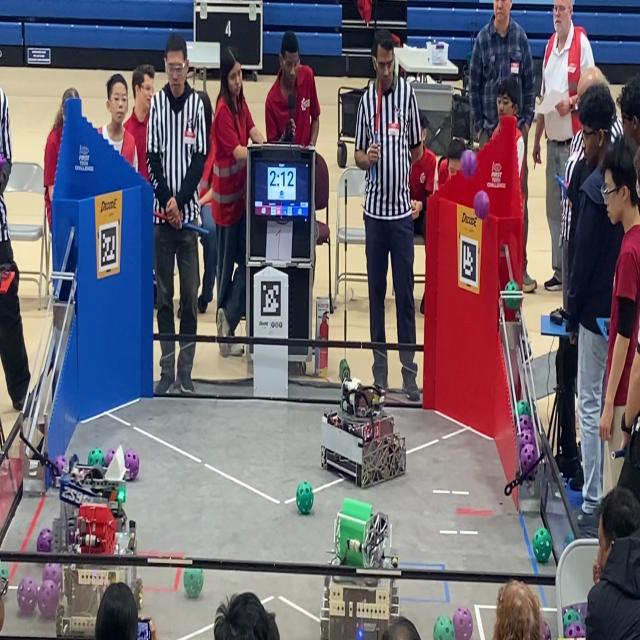artifact_green: (532, 528, 552, 564), (183, 568, 204, 599), (296, 482, 313, 514), (433, 616, 454, 639), (563, 609, 583, 632), (88, 448, 105, 466), (339, 359, 350, 382), (517, 400, 531, 417), (505, 297, 520, 310), (564, 532, 574, 548), (0, 563, 8, 581)
artifact_purple: (38, 580, 59, 619), (17, 578, 38, 615), (453, 607, 473, 639), (520, 444, 537, 477), (459, 150, 477, 178), (43, 563, 62, 589), (125, 448, 139, 480), (474, 191, 489, 220), (520, 438, 538, 459), (37, 528, 52, 552), (565, 622, 585, 638), (54, 456, 67, 476), (520, 431, 535, 447), (519, 415, 533, 431), (105, 448, 115, 466), (563, 605, 579, 616), (542, 621, 551, 639), (578, 603, 587, 621), (67, 529, 77, 545), (562, 606, 572, 616), (0, 155, 6, 168)
